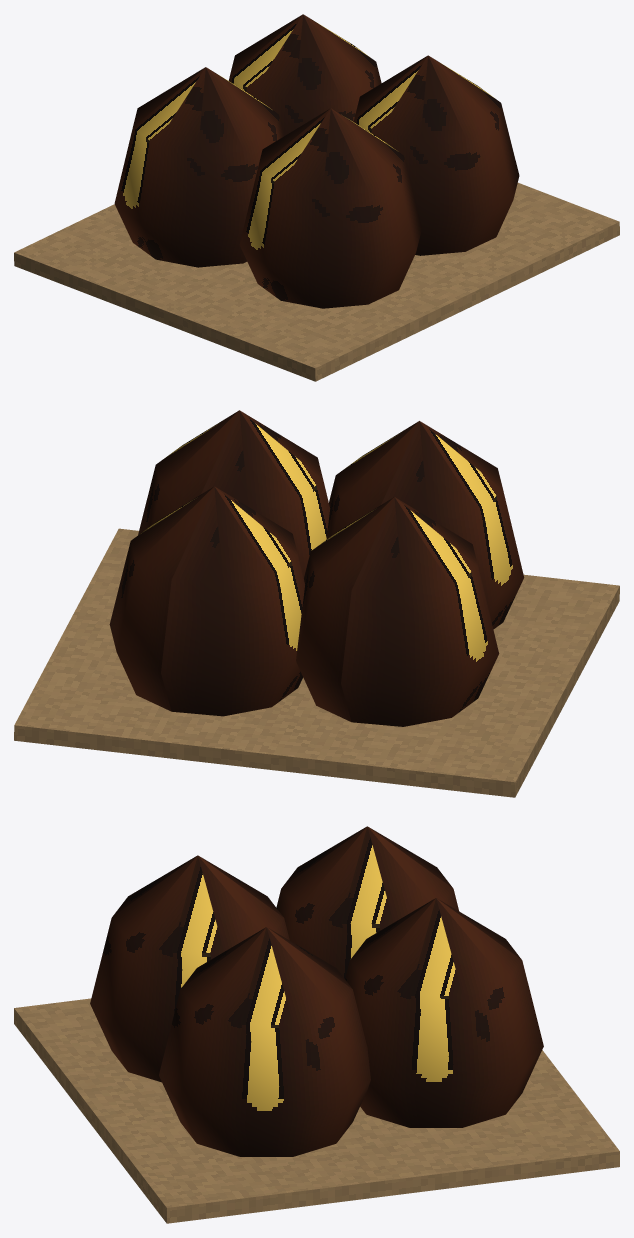
The model's file is item_roasted_chestnut.glb.
The picture shows the model from 3 angles, top to bottom: view 1: azimuth 30°, elevation 25°; view 2: azimuth 150°, elevation 25°; view 3: azimuth 270°, elevation 25°; orthographic projection. The views are drawn at different scales.
Parts seen in each view (by area): view 1: item_roasted_chestnut; view 2: item_roasted_chestnut; view 3: item_roasted_chestnut.
Part boxes in pixels (x1,y1,x2,y2): item_roasted_chestnut: (14, 14, 619, 381); item_roasted_chestnut: (14, 410, 619, 797); item_roasted_chestnut: (14, 826, 619, 1223).
Size of the model in its own units: 0.1472 by 0.0575 by 0.1405.
2 materials, 2 textured.
